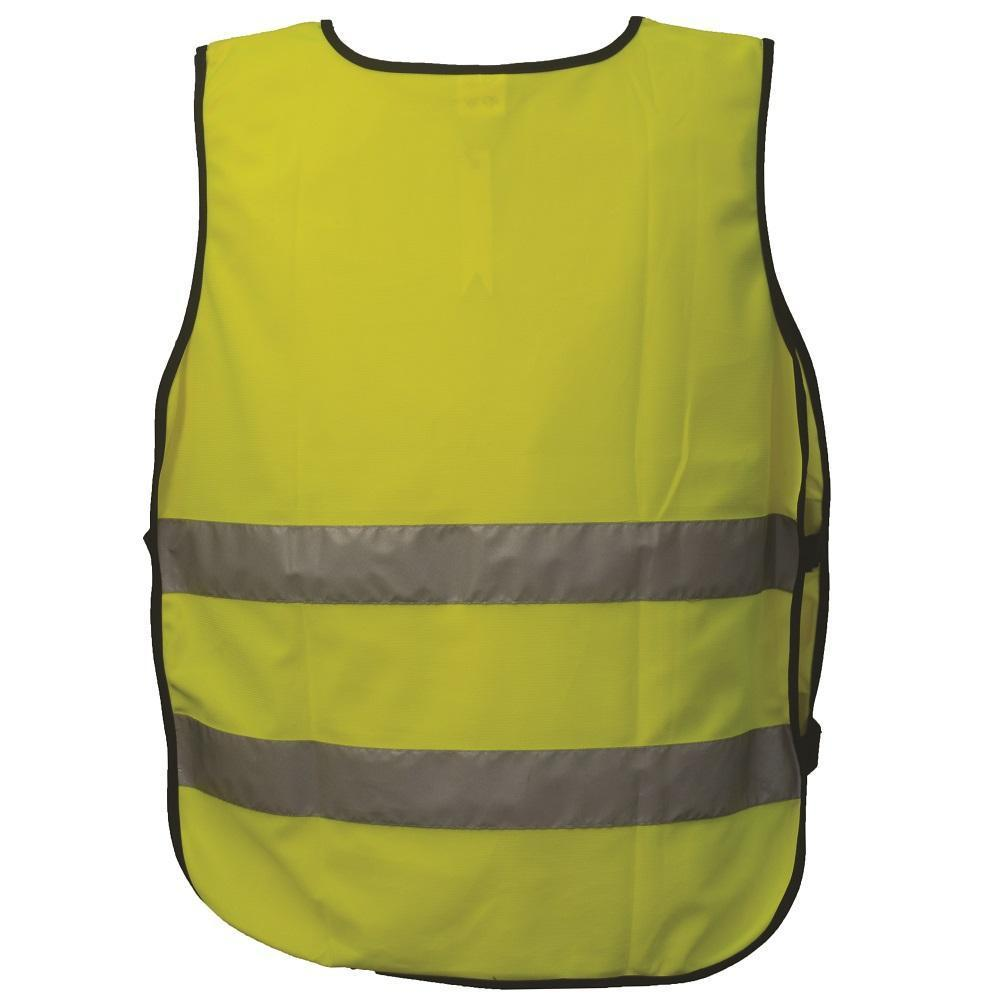vest: (141, 14, 832, 988)
